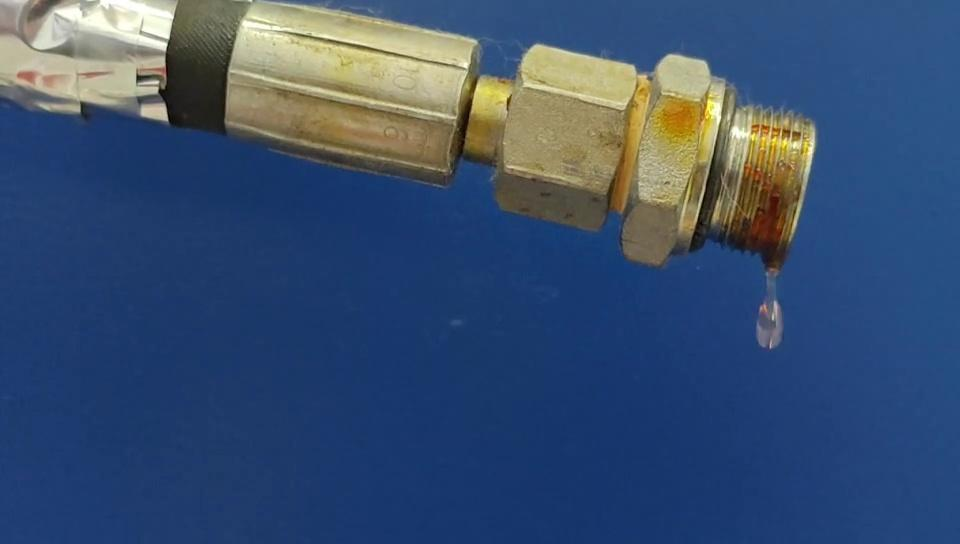water drop: (755, 268, 782, 349)
